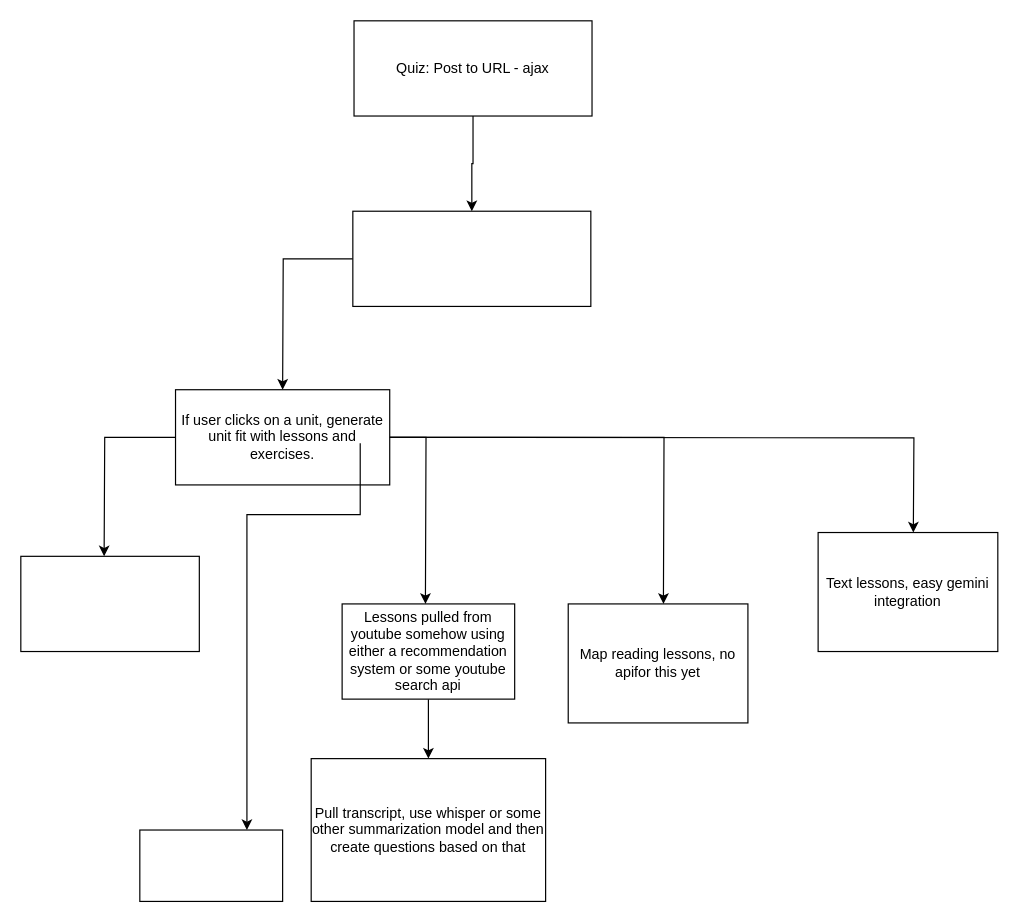
Image size: 1019x922. Some labels were removed from this diagram. The shapes that lost their labels are listed below. From the top down, each one's centre as x and y in pixels, then its label:
point (471, 258): Creates outline of units using Gemini or another LLM (Store outline)
point (109, 603): TTS/SST lessons powered by tts3x, python speech recognition, and gemini
point (211, 865): Hand signal lessons using CV?
